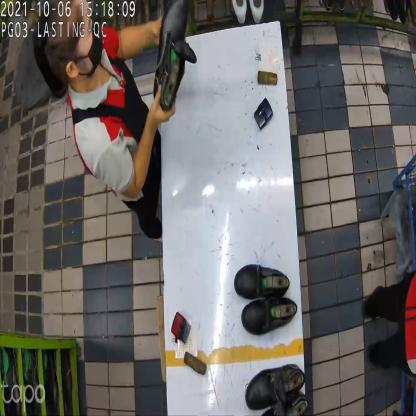shoes: (232, 261, 300, 335), (242, 364, 308, 416)
stamp: (254, 97, 274, 131), (172, 310, 192, 344)
